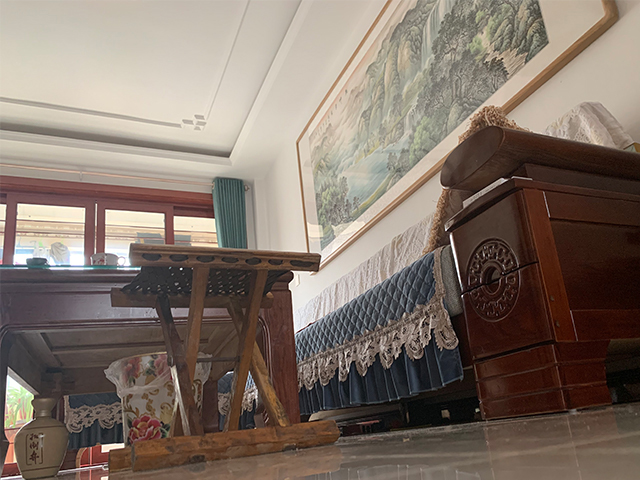sofa: (293, 101, 639, 436)
stool: (109, 242, 339, 471)
table: (1, 255, 299, 476)
trashcan: (104, 349, 213, 448)
